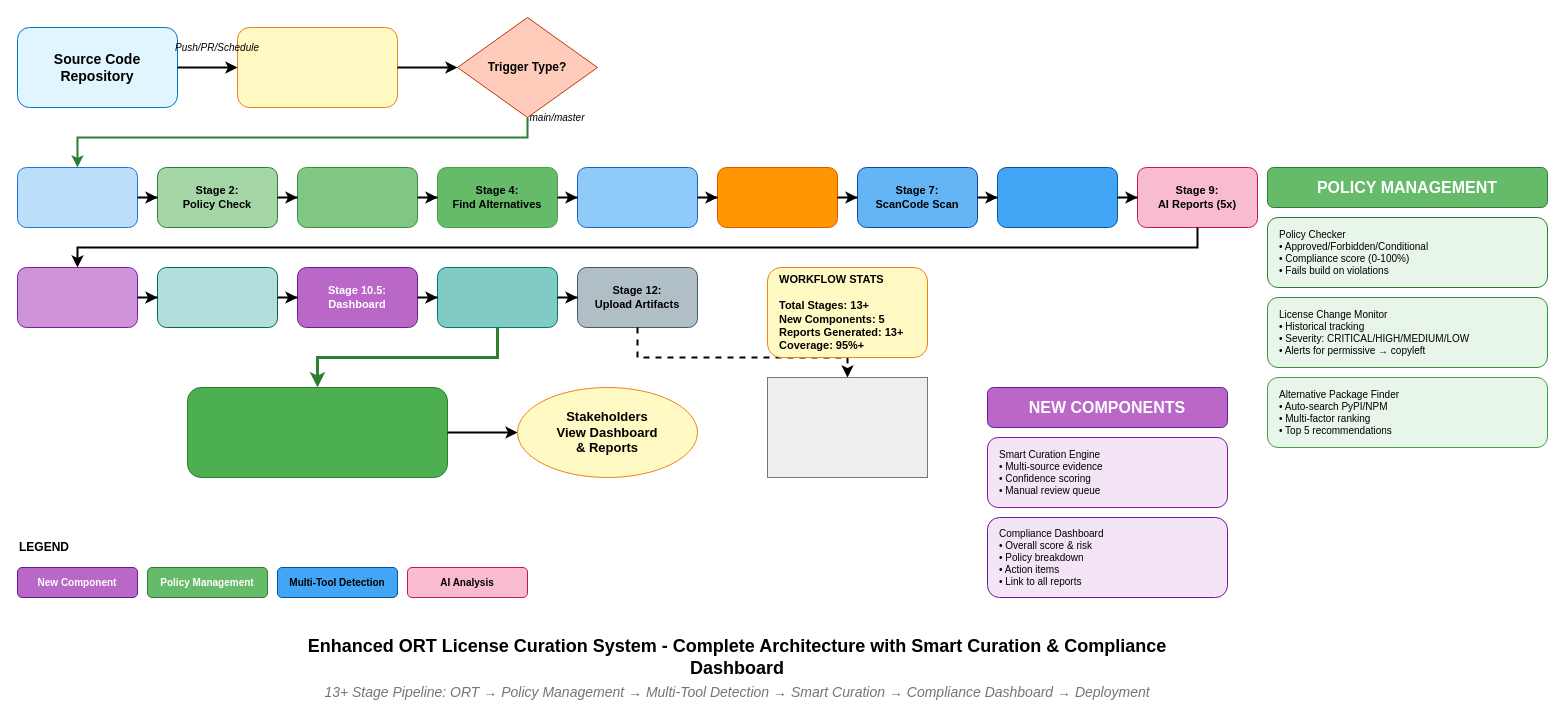
Image size: 1565x725. Some labels were removed from this diagram. Each missing label, with the box of its shape:
Artifact Storage (30 days retention) ORT + ScanCode + All Reports: (766, 376, 928, 478)
GitHub Actions Trigger: (236, 26, 398, 108)
GitHub Pages Compliance Dashboard 13+ Reports: (186, 386, 448, 478)
Stage 10: Prepare Pages: (156, 266, 278, 328)
Stage 11: Deploy Pages: (436, 266, 558, 328)
Stage 1: ORT Analysis: (16, 166, 138, 228)
Stage 3: Change Monitor: (296, 166, 418, 228)
Stage 5: Extract Uncertain: (576, 166, 698, 228)
Stage 6: PyPI FastAPI: (716, 166, 838, 228)
Stage 8: Merge & Validate: (996, 166, 1118, 228)
Stage 9.5: Smart Curation: (16, 266, 138, 328)
